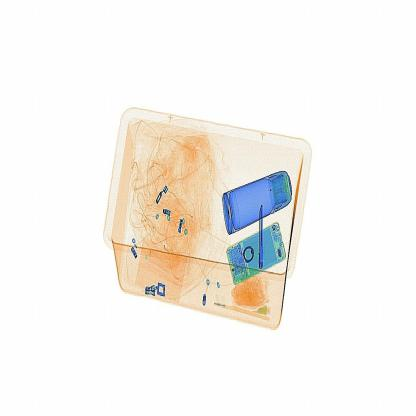pliers: (250, 192, 271, 277)
